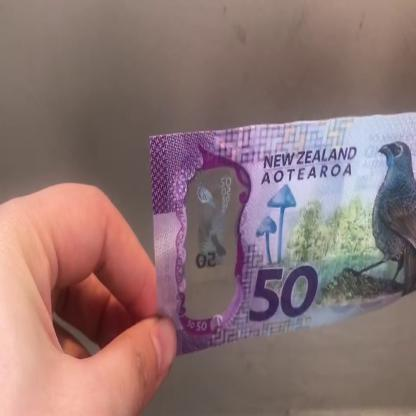50B: (193, 171, 234, 304)
